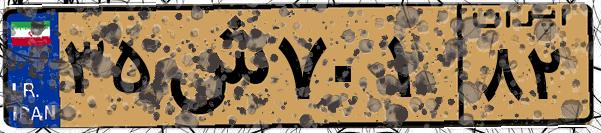0: (330, 28, 385, 110)
1: (385, 28, 445, 110)
2: (525, 38, 570, 115)
3: (57, 26, 110, 100)
5: (110, 28, 158, 98)
7: (270, 28, 330, 110)
8: (475, 38, 525, 113)
ش: (158, 12, 270, 120)
